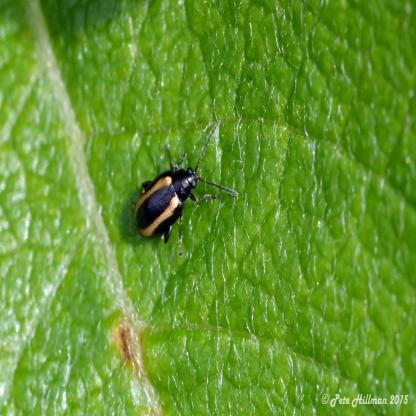beetle: (130, 124, 233, 250)
